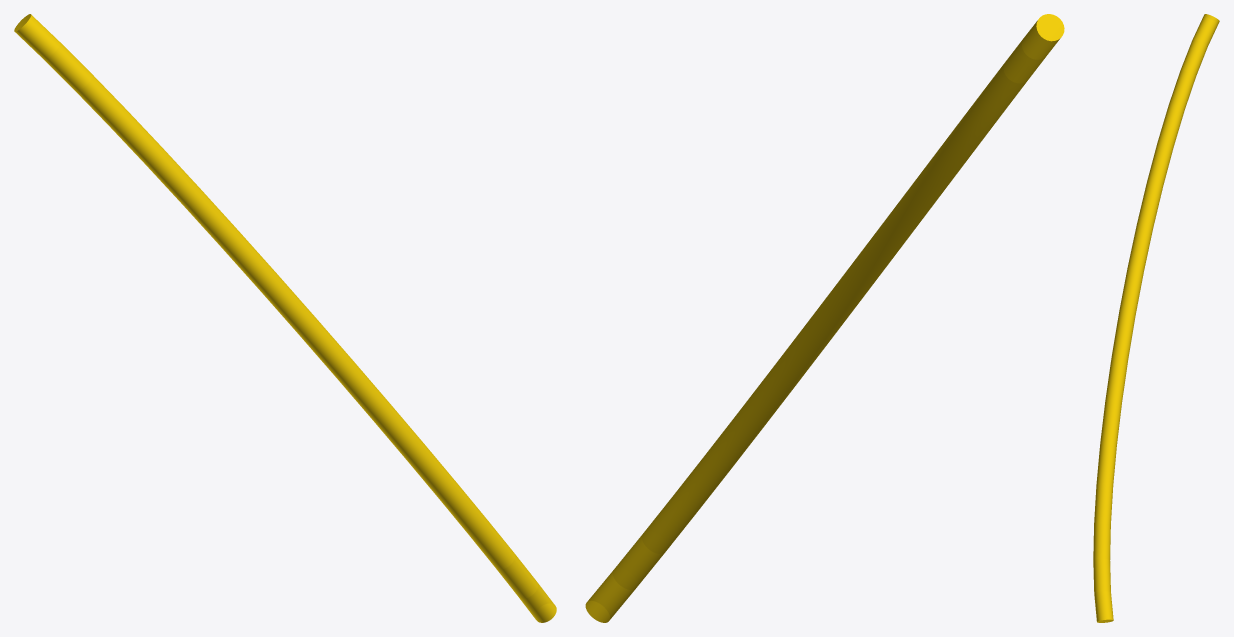
Rendered from Event_421115418_track_183.fbx.
The picture shows the model from 3 angles, left to right: view 1: azimuth 30°, elevation 25°; view 2: azimuth 150°, elevation 25°; view 3: azimuth 270°, elevation 25°; orthographic projection. The views are drawn at different scales.
Parts seen in each view (by area): view 1: Model; view 2: Model; view 3: Model.
Boxes of the visible parts, box(x1,y1,x2,y2) form: Model: box(14, 14, 556, 622); Model: box(585, 14, 1064, 622); Model: box(1093, 14, 1219, 622).
Size of the model in its own units: 0.8903 by 1.21 by 0.2999.
